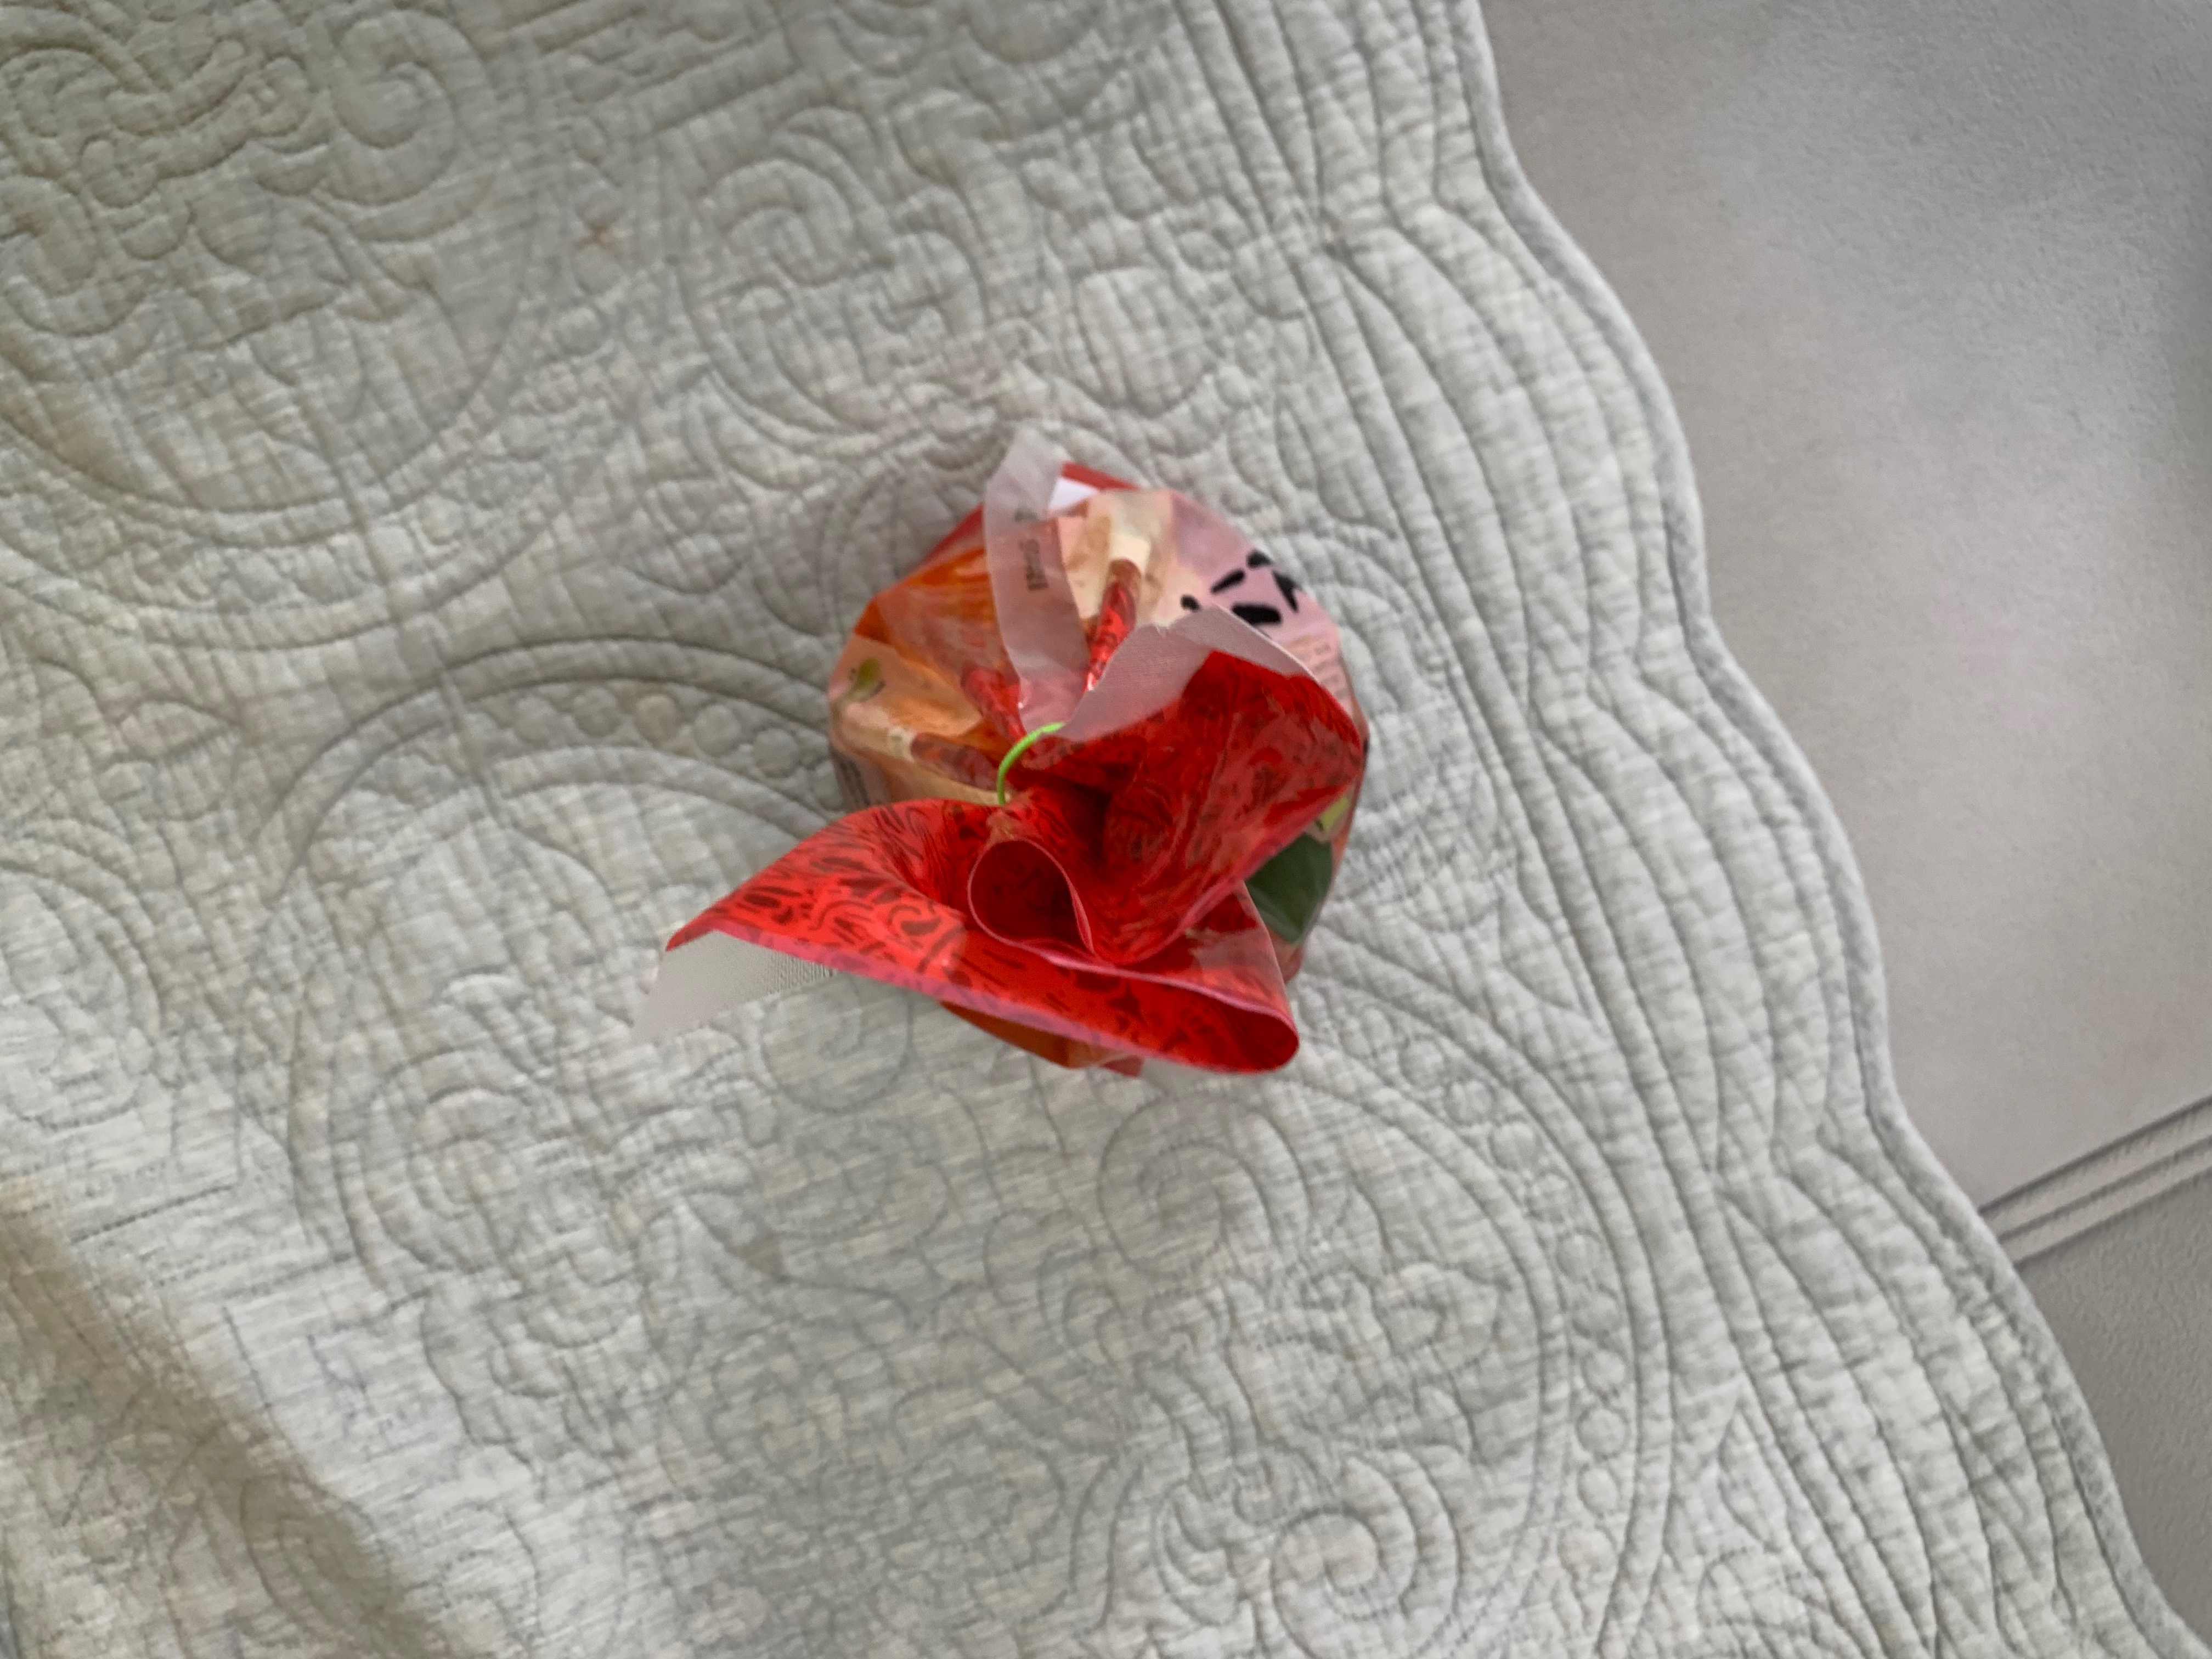kimchi: (690, 460, 1371, 1082)
